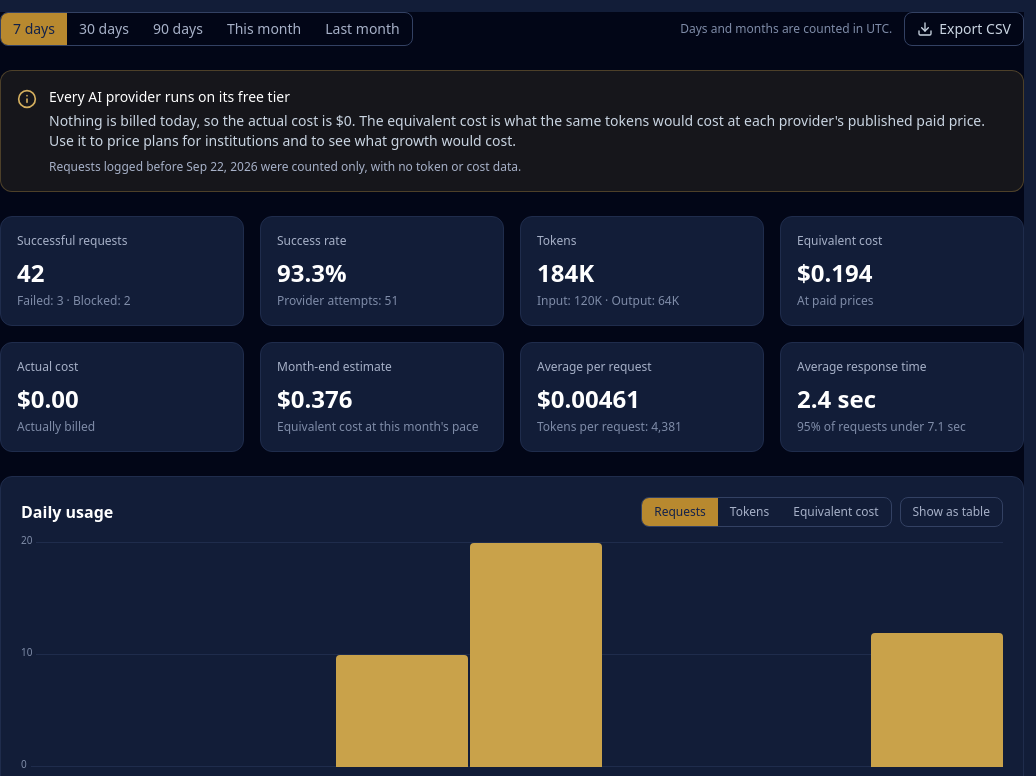
Scenario: AI usage dashboard › switches the chart to a table and between metrics
The image size is (1036, 776).
Click the button "Show as table": (951, 512) x1=900 y1=497 x2=1003 y2=527
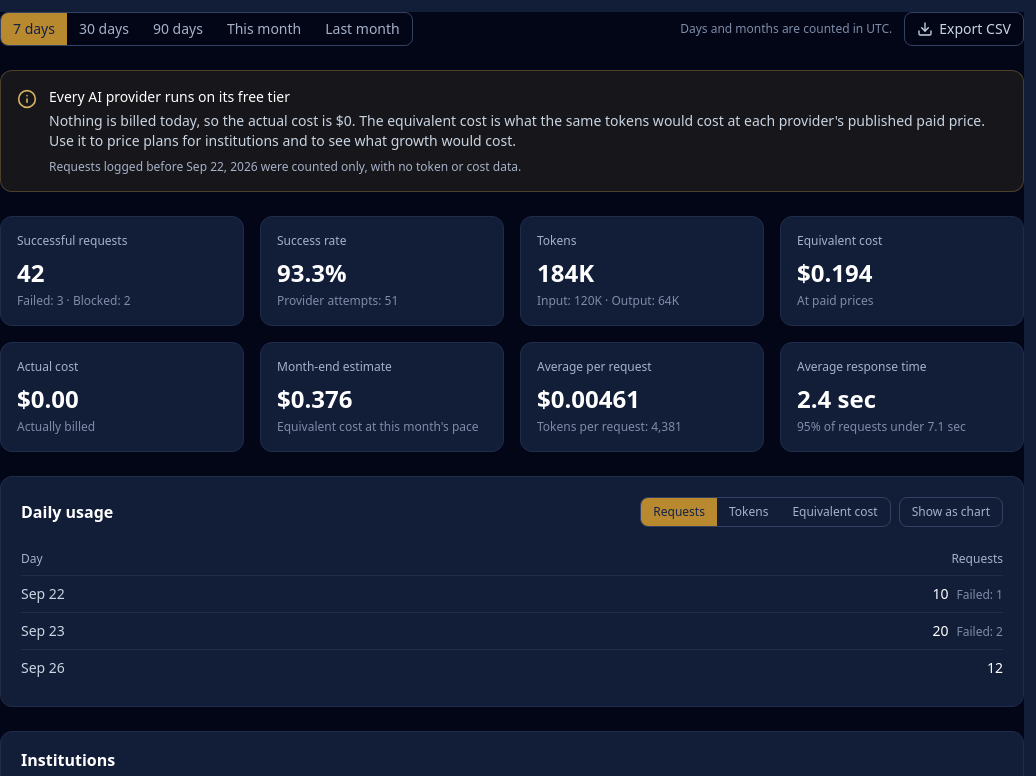
Click the tab "Equivalent cost": (835, 512) x1=780 y1=498 x2=890 y2=526
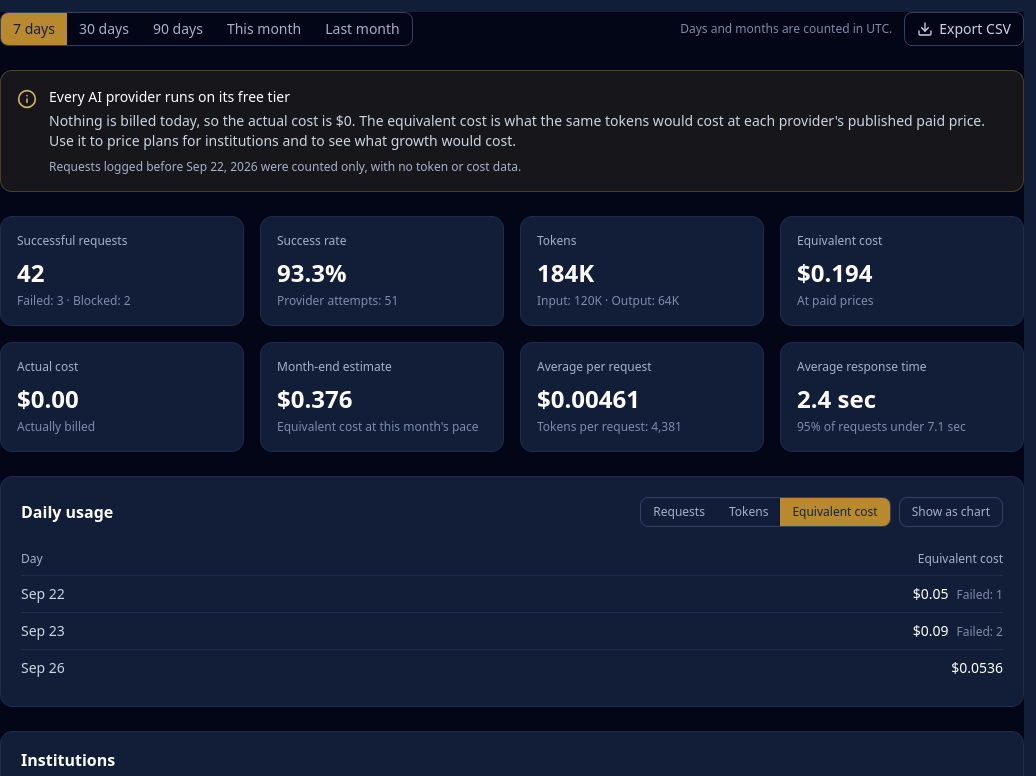
Result: the text "$0.09" is shown at x1=913 y1=621 x2=948 y2=640
